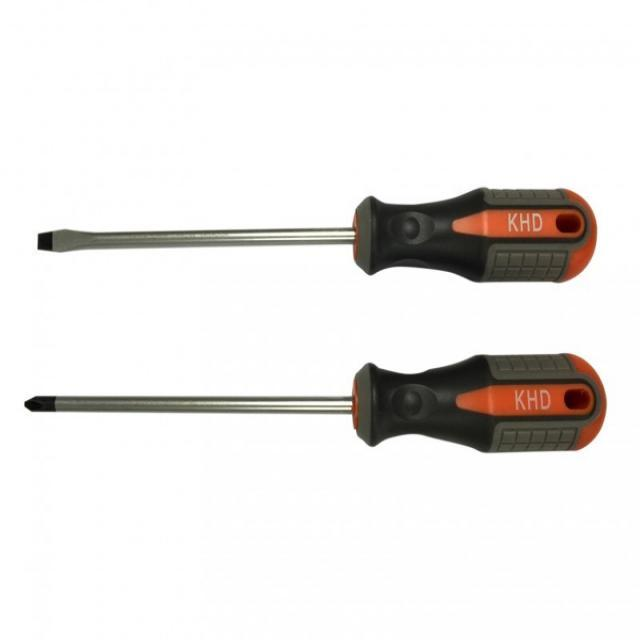screwdriver: (13, 346, 614, 460), (29, 183, 601, 294)
